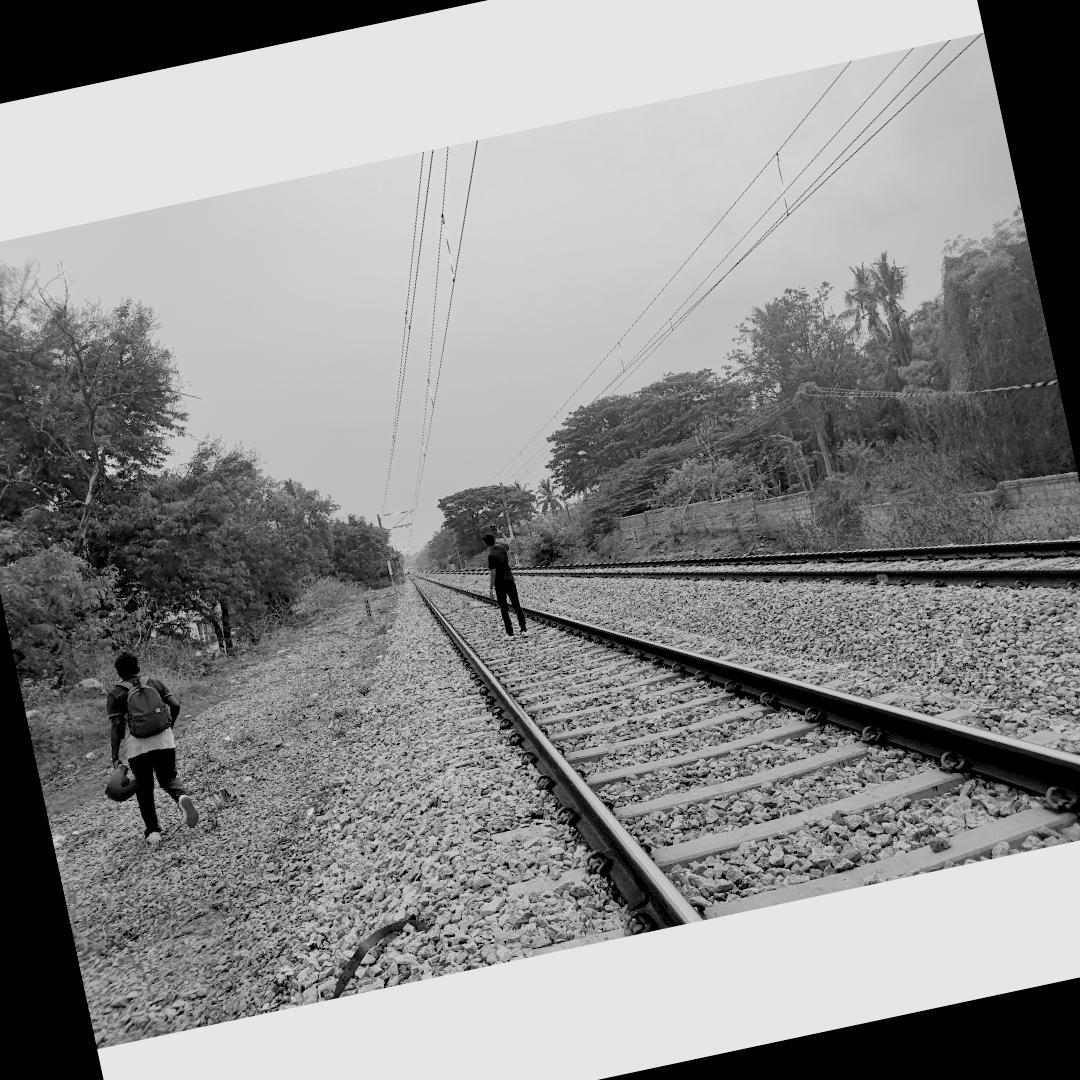standing: (86, 642, 206, 849), (474, 525, 530, 639)
track: (399, 568, 1080, 935)
